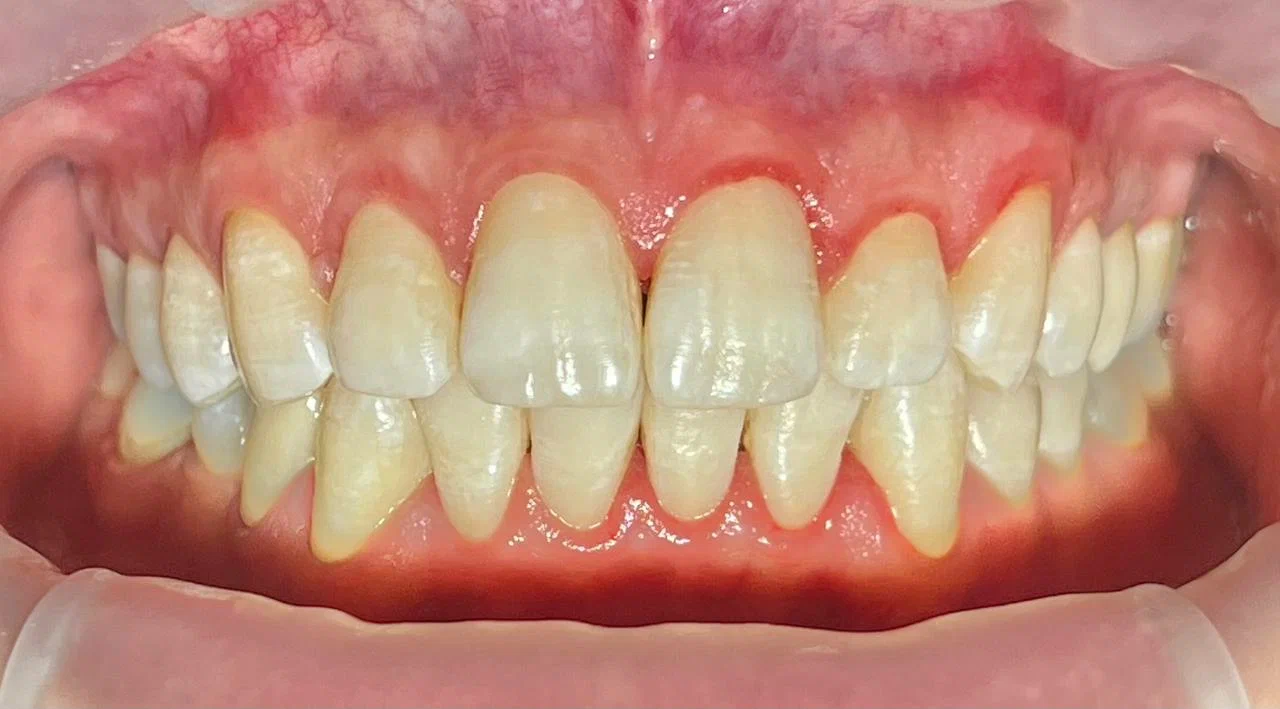LL1BC_healthy: (972, 383, 1040, 490)
LL2BC_healthy: (1040, 372, 1091, 476)
LLCI_healthy: (639, 402, 741, 521)
LLC_healthy: (860, 389, 973, 530)
LLLI_healthy: (743, 393, 855, 531)
LR1BC_healthy: (242, 406, 313, 532)
LRCI_healthy: (529, 404, 640, 526)
LRC_healthy: (303, 400, 424, 575)
LRLI_healthy: (410, 397, 528, 543)
UL1BC_healthy: (1038, 199, 1104, 382)
ULCI_healthy: (640, 158, 824, 406)
ULC_healthy: (955, 176, 1038, 385)
ULLI_healthy: (820, 196, 954, 393)
UR1BC_healthy: (159, 222, 239, 400)
URCI_healthy: (462, 172, 639, 404)
URC_healthy: (233, 196, 330, 410)
URLI_healthy: (330, 196, 462, 398)
